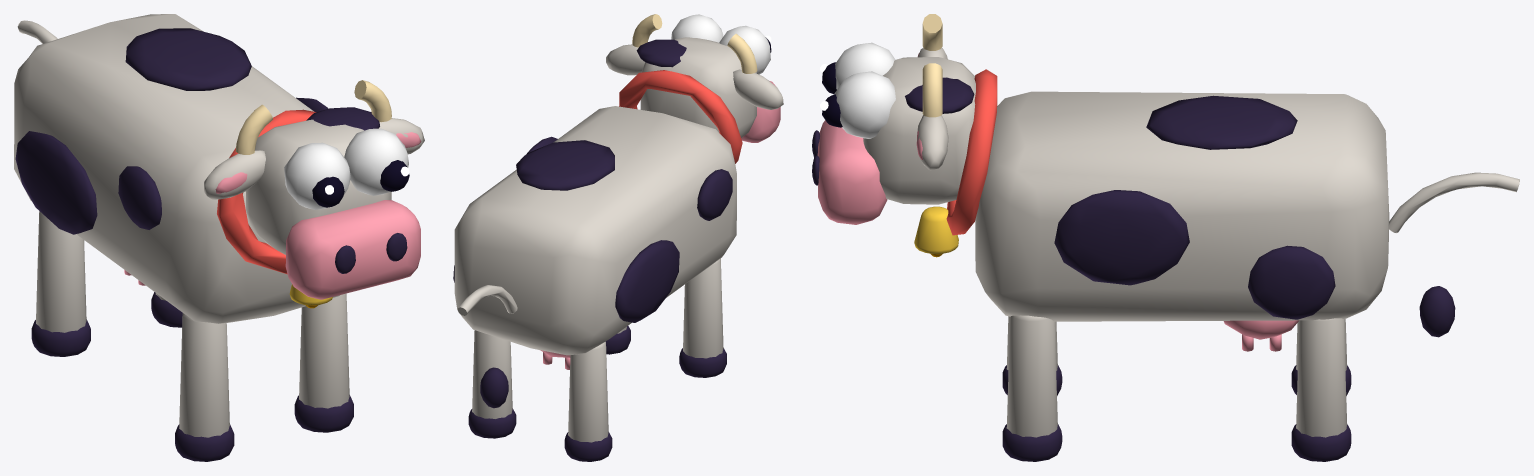
File: b_cow.glb
3 views of the same model, side by side, from view 1: azimuth 30°, elevation 25°; view 2: azimuth 150°, elevation 25°; view 3: azimuth 270°, elevation 25° (orthographic). The views are drawn at different scales.
Parts seen in each view (by area): view 1: Cube; view 2: Cube; view 3: Cube.
Part boxes in pixels (x1,y1,x2,y2): Cube: (14, 14, 424, 461); Cube: (453, 14, 783, 461); Cube: (812, 14, 1519, 461).
Bounding box in the file's own units: 1.28 × 2.13 × 3.55.
